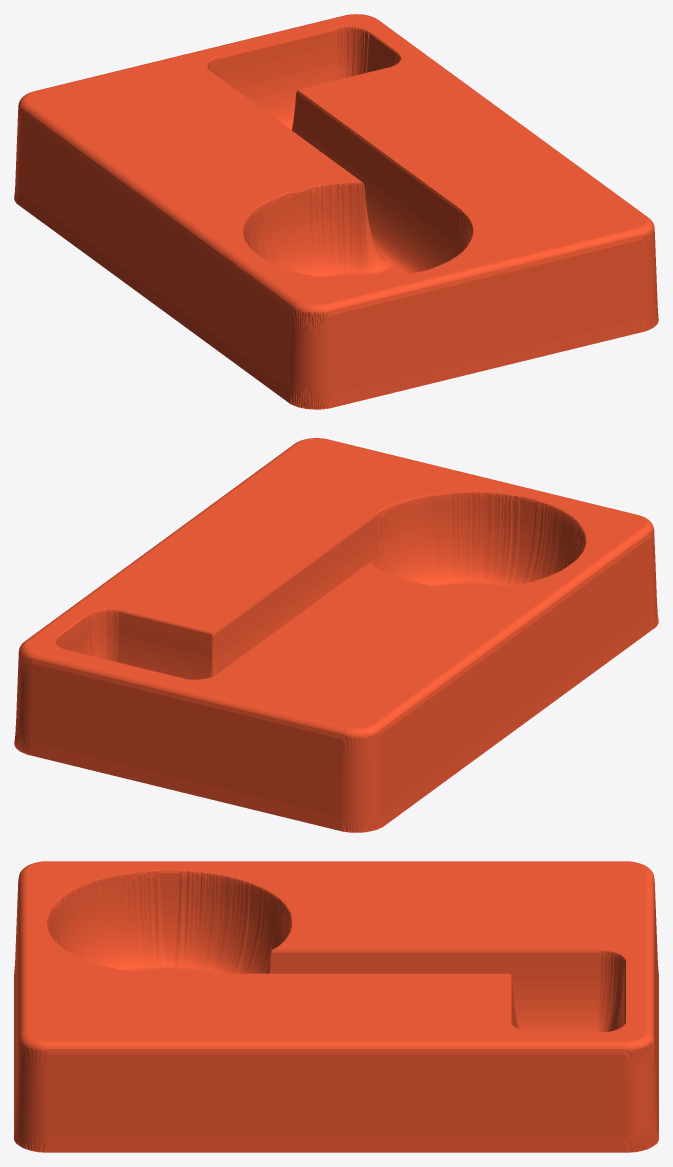
File: mold.glb
3 views of the same model, one above another, from view 1: azimuth 30°, elevation 25°; view 2: azimuth 150°, elevation 25°; view 3: azimuth 270°, elevation 25° (orthographic). The views are drawn at different scales.
Parts seen in each view (by area): view 1: geometry_0; view 2: geometry_0; view 3: geometry_0.
Part boxes in pixels (left/top/right/bottom): geometry_0: left=14, top=14, right=658, bottom=409; geometry_0: left=14, top=438, right=658, bottom=832; geometry_0: left=14, top=861, right=658, bottom=1152.
Bounding box in the file's own units: 0.1194 × 0.031 × 0.1709.
